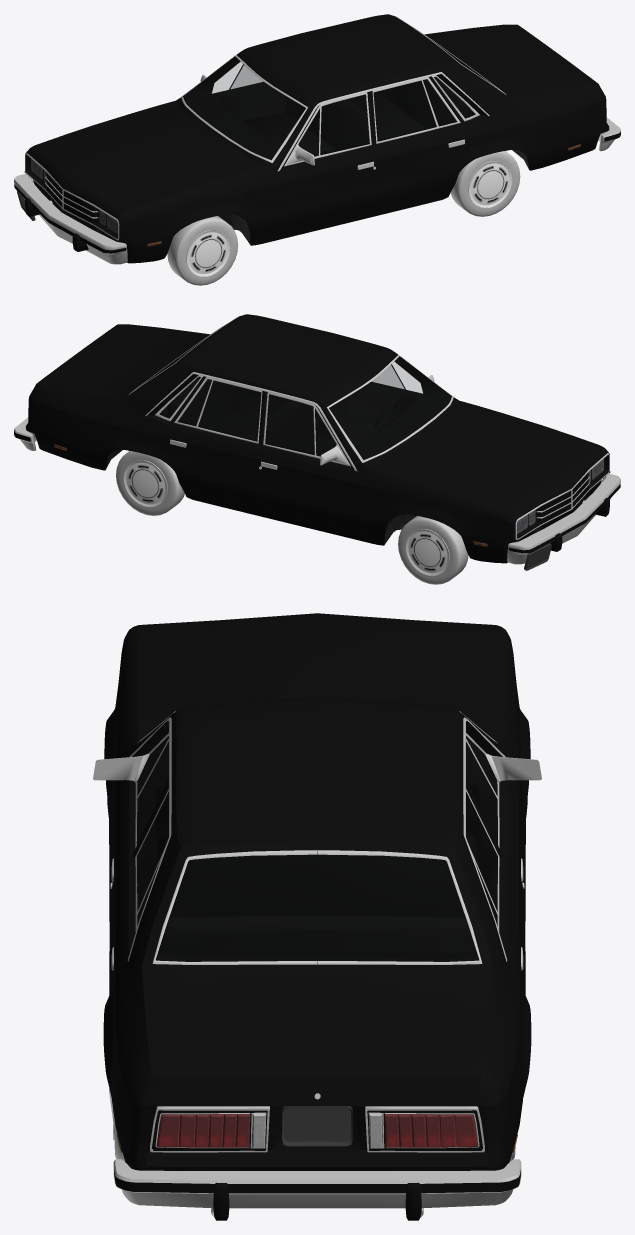
3 renders of one model, top to bottom at view 1: azimuth 30°, elevation 25°; view 2: azimuth 150°, elevation 25°; view 3: azimuth 270°, elevation 25°, orthographic. The views are drawn at different scales.
Visible parts, largest first — view 1: body_body_0, glass_glass_0, interior__0, body_chrome_chrome_0, bumpers_chrome_0, wheel_01_tires_0, wheel_002_tires_0, wheel_01_rims_0, wheel_002_rims_0, bumpers_body_0, lights_lights_0, bottom_ucb_bottom3_bump_0; view 2: body_body_0, glass_glass_0, interior__0, body_chrome_chrome_0, bumpers_chrome_0, wheel_003_tires_0, wheel_004_tires_0, wheel_004_rims_0, wheel_003_rims_0, bumpers_body_0, lights_lights_0, bottom_ucb_bottom3_bump_0 (+1 smaller); view 3: body_body_0, interior__0, glass_glass_0, body_chrome_chrome_0, bumpers_chrome_0, lights_lights_0, bumpers_body_0, body_lights_0.
Part boxes in pixels (bbox=[...]): body_body_0: bbox=[24, 14, 609, 263]; glass_glass_0: bbox=[183, 41, 489, 159]; interior__0: bbox=[183, 38, 497, 160]; body_chrome_chrome_0: bbox=[25, 16, 505, 252]; bumpers_chrome_0: bbox=[14, 117, 620, 264]; wheel_01_tires_0: bbox=[167, 216, 238, 285]; wheel_002_tires_0: bbox=[450, 151, 520, 216]; wheel_01_rims_0: bbox=[186, 230, 230, 276]; wheel_002_rims_0: bbox=[468, 161, 512, 207]; bumpers_body_0: bbox=[14, 131, 620, 253]; lights_lights_0: bbox=[31, 144, 580, 246]; bottom_ucb_bottom3_bump_0: bbox=[218, 149, 529, 244]; body_body_0: bbox=[25, 314, 610, 563]; glass_glass_0: bbox=[148, 341, 451, 459]; interior__0: bbox=[138, 338, 451, 460]; body_chrome_chrome_0: bbox=[128, 316, 609, 552]; bumpers_chrome_0: bbox=[14, 417, 620, 564]; wheel_003_tires_0: bbox=[398, 516, 468, 584]; wheel_004_tires_0: bbox=[116, 451, 184, 515]; wheel_004_rims_0: bbox=[123, 460, 167, 506]; wheel_003_rims_0: bbox=[405, 529, 449, 575]; bumpers_body_0: bbox=[14, 431, 620, 553]; lights_lights_0: bbox=[54, 444, 603, 546]; bottom_ucb_bottom3_bump_0: bbox=[105, 449, 416, 544]; body_body_0: bbox=[103, 613, 531, 1170]; interior__0: bbox=[136, 736, 497, 964]; glass_glass_0: bbox=[137, 736, 497, 961]; body_chrome_chrome_0: bbox=[93, 711, 541, 1217]; bumpers_chrome_0: bbox=[113, 1159, 521, 1208]; lights_lights_0: bbox=[117, 1113, 517, 1152]; bumpers_body_0: bbox=[114, 1170, 520, 1220]; body_lights_0: bbox=[282, 1106, 352, 1146].
Size of the model in its own units: 197 by 53.19 by 72.09.
